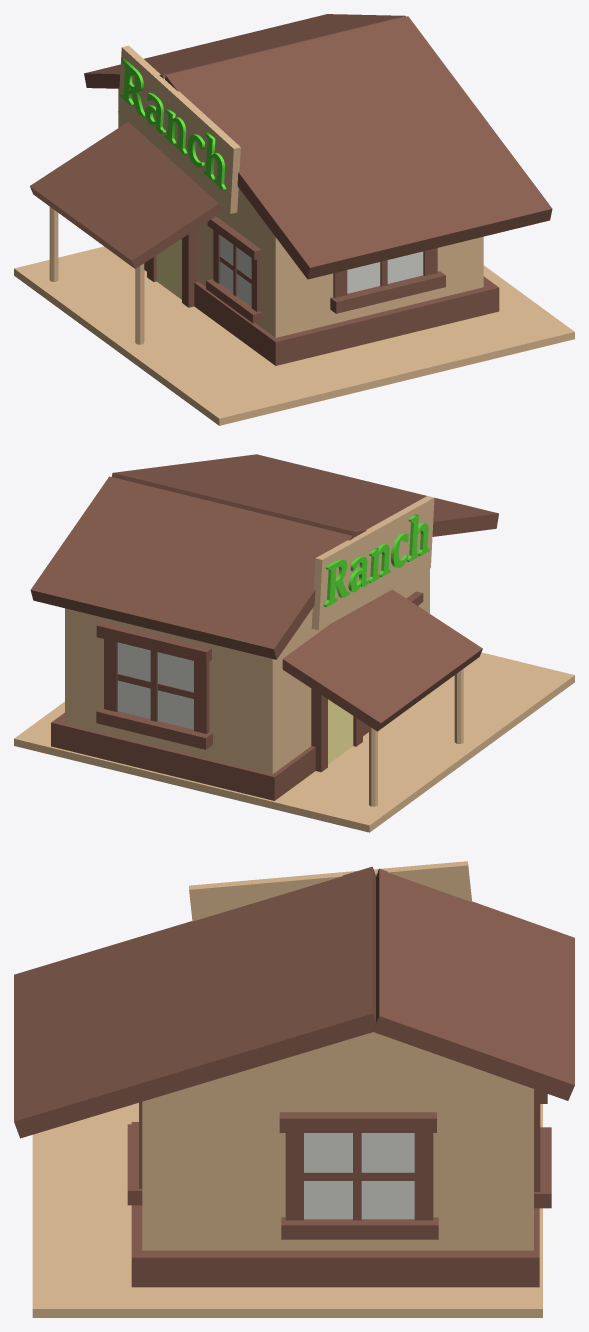
Rendered from Ranch.fbx.
3 views of the same model, one above another, from view 1: azimuth 30°, elevation 25°; view 2: azimuth 150°, elevation 25°; view 3: azimuth 270°, elevation 25° (orthographic). The views are drawn at different scales.
Parts seen in each view (by area): view 1: Cube.011, Cube, Text, Cube.037, Cube.007; view 2: Cube.011, Cube, Cube.037, Text, Cube.007; view 3: Cube.011, Cube, Cube.037.
Boxes of the visible parts, box(x1,y1,x2,y2) form: Cube.011: box(30, 14, 552, 365); Cube: box(14, 45, 574, 425); Text: box(120, 59, 226, 190); Cube.037: box(220, 235, 423, 306); Cube.007: box(156, 239, 181, 299); Cube.011: box(30, 454, 498, 800); Cube: box(14, 496, 574, 832); Cube.037: box(118, 642, 193, 729); Text: box(323, 514, 429, 607); Cube.007: box(328, 699, 353, 764); Cube.011: box(14, 866, 574, 1287); Cube: box(32, 861, 542, 1317); Cube.037: box(304, 1133, 414, 1219).
Size of the model in its own units: 342 by 213 by 376.
